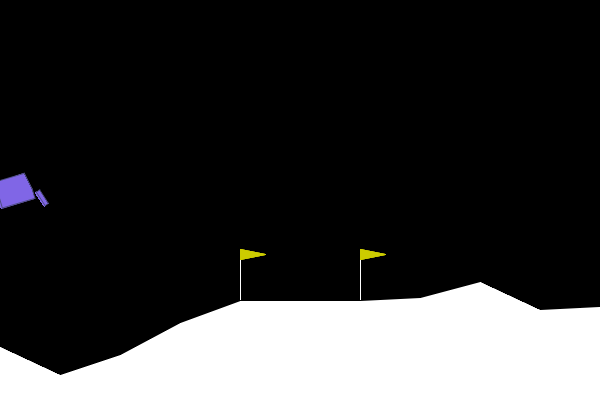lander: (0, 167, 50, 223)
